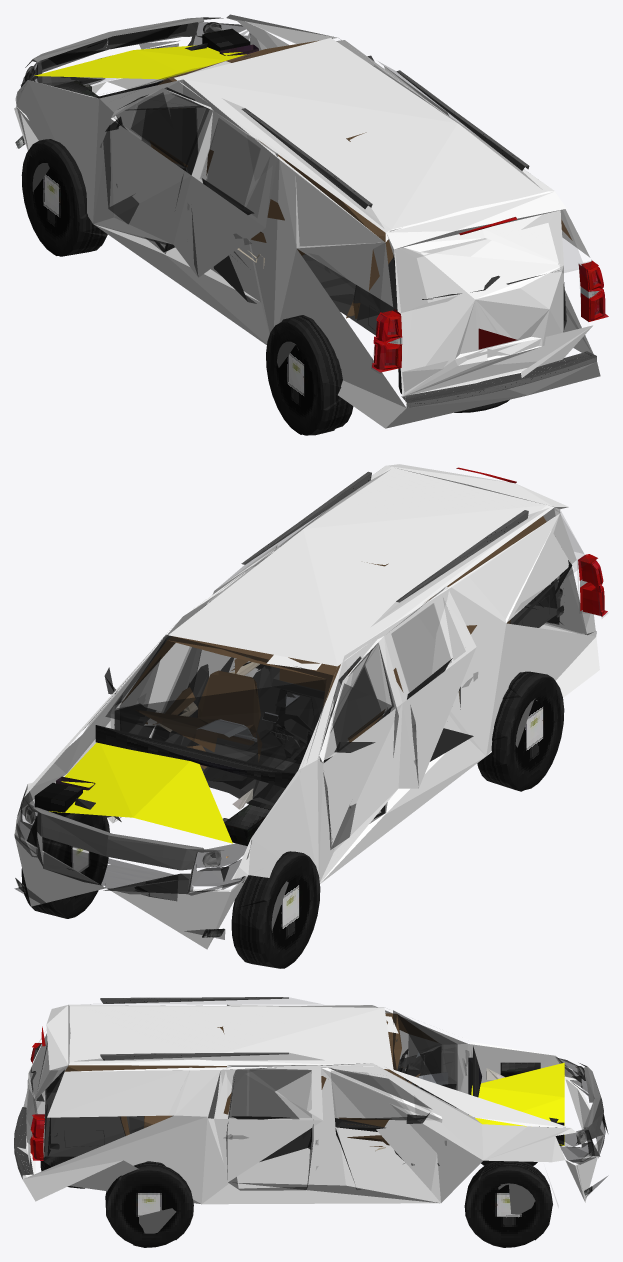
The model's file is suburban_lod2.glb.
3 views of the same model, one above another, from view 1: azimuth 30°, elevation 25°; view 2: azimuth 150°, elevation 25°; view 3: azimuth 270°, elevation 25° (orthographic). The views are drawn at different scales.
Parts seen in each view (by area): view 1: Object_24, Object_29, Object_19, Object_6, Object_17, Object_10, Object_27, Object_21, Object_12, Object_16; view 2: Object_24, Object_17, Object_19, Object_29, Object_10, Object_27, Object_6, Object_12, Object_16, Object_14, Object_21, Object_13; view 3: Object_24, Object_19, Object_29, Object_17, Object_10, Object_6, Object_27, Object_12, Object_16, Object_21.
Boxes of the visible parts, x1=… form: Object_24: x1=14, y1=14, x2=600, y2=428; Object_29: x1=21, y1=139, x2=509, y2=435; Object_19: x1=51, y1=62, x2=591, y2=373; Object_6: x1=25, y1=17, x2=596, y2=407; Object_17: x1=16, y1=22, x2=419, y2=276; Object_10: x1=114, y1=118, x2=566, y2=335; Object_27: x1=34, y1=45, x2=246, y2=79; Object_21: x1=15, y1=135, x2=608, y2=372; Object_12: x1=149, y1=40, x2=572, y2=318; Object_16: x1=53, y1=28, x2=258, y2=98; Object_24: x1=14, y1=464, x2=599, y2=949; Object_17: x1=14, y1=599, x2=562, y2=939; Object_19: x1=16, y1=471, x2=607, y2=892; Object_29: x1=21, y1=671, x2=564, y2=968; Object_10: x1=114, y1=560, x2=572, y2=818; Object_27: x1=49, y1=742, x2=232, y2=843; Object_6: x1=24, y1=471, x2=596, y2=932; Object_12: x1=121, y1=516, x2=546, y2=769; Object_16: x1=34, y1=725, x2=295, y2=845; Object_14: x1=75, y1=689, x2=313, y2=809; Object_21: x1=15, y1=467, x2=607, y2=937; Object_13: x1=198, y1=694, x2=299, y2=741; Object_24: x1=17, y1=1004, x2=603, y2=1204; Object_19: x1=33, y1=998, x2=591, y2=1203; Object_29: x1=40, y1=1156, x2=552, y2=1247; Object_17: x1=46, y1=1010, x2=607, y2=1197; Object_10: x1=30, y1=1042, x2=456, y2=1189; Object_6: x1=14, y1=997, x2=608, y2=1233; Object_27: x1=471, y1=1062, x2=564, y2=1145; Object_12: x1=65, y1=1013, x2=437, y2=1146; Object_16: x1=468, y1=1046, x2=564, y2=1145; Object_21: x1=30, y1=1026, x2=592, y2=1195.
Bounding box in the file's own units: 2.18 × 1.88 × 5.62.
Materials: 17 (9 with a texture image).
